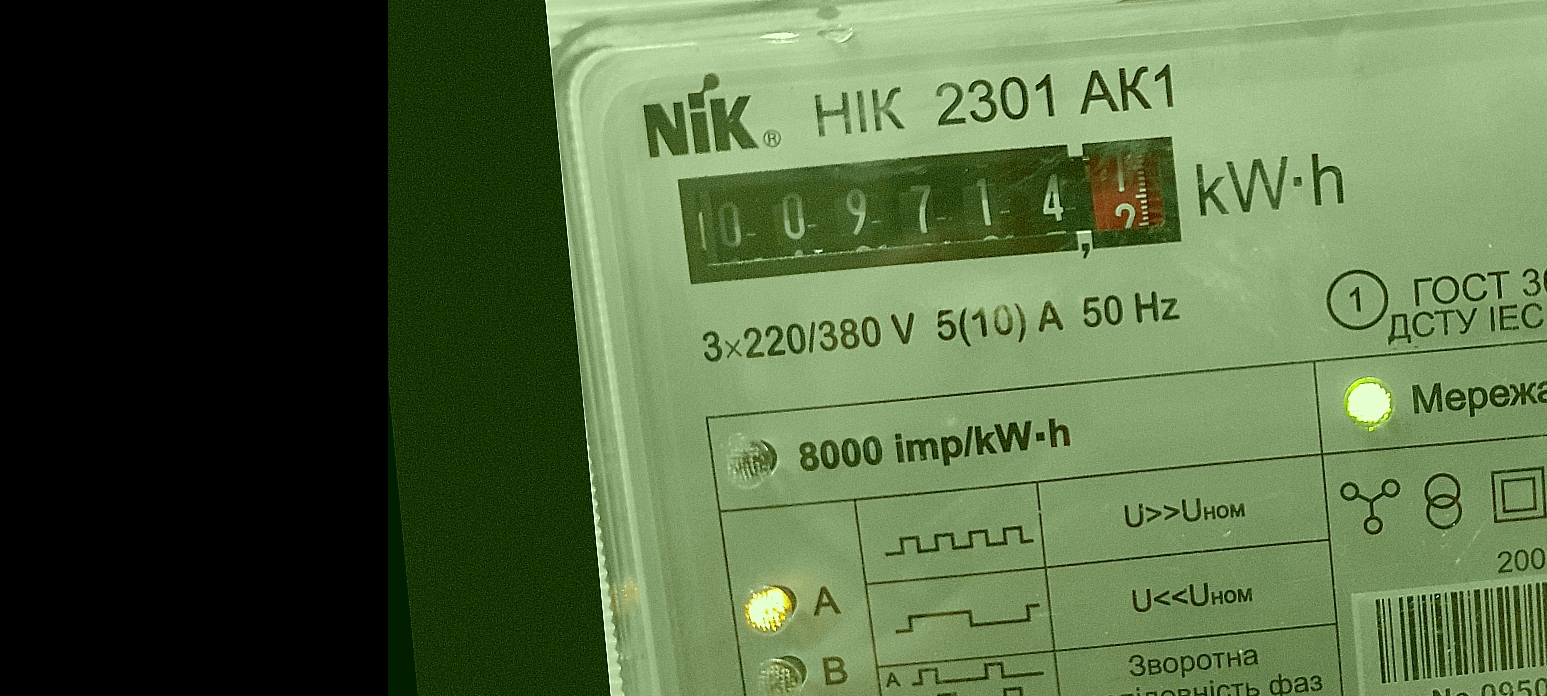0: (713, 196, 747, 252), (777, 187, 809, 242)
1: (971, 172, 998, 229), (1110, 150, 1129, 194)
2: (1112, 198, 1138, 230)
4: (1036, 169, 1069, 225)
7: (907, 180, 937, 236)
9: (840, 183, 873, 238)
screen: (662, 115, 1200, 306)
